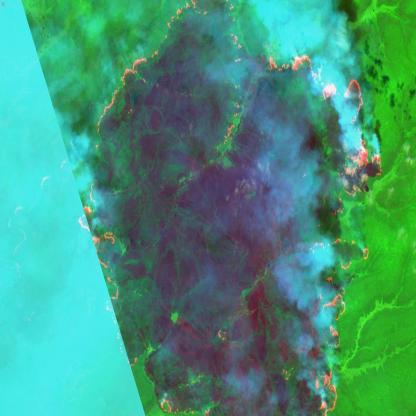fire: (75, 0, 386, 416)
